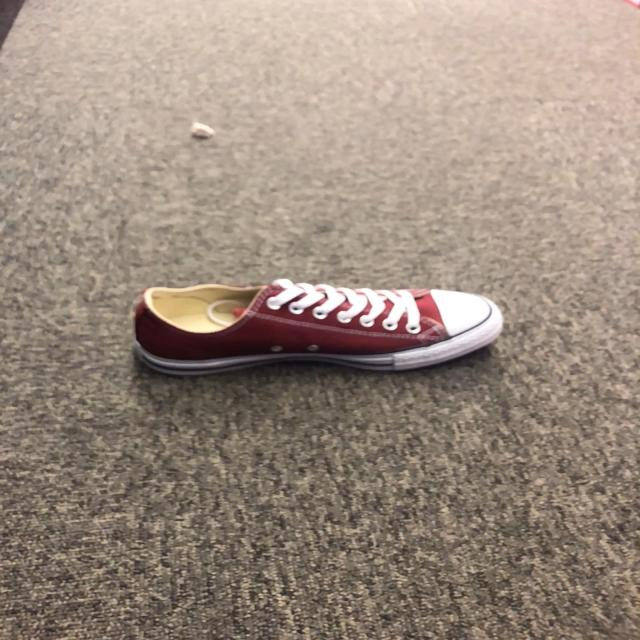shoe: (131, 279, 502, 380)
